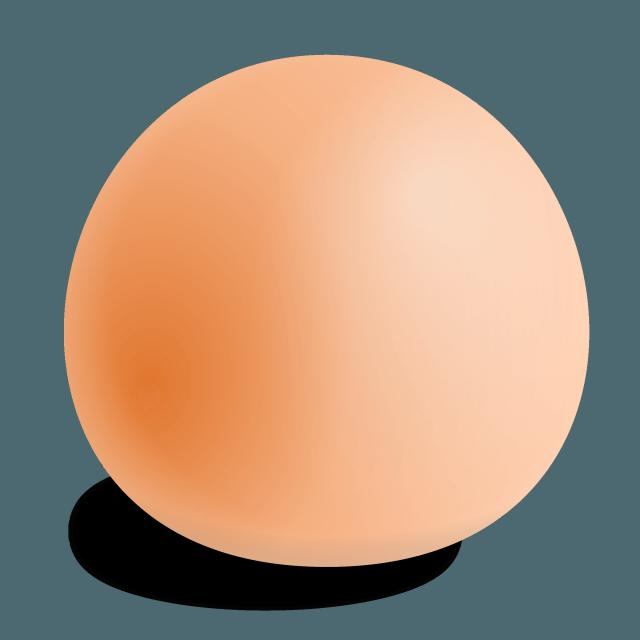egg: (57, 45, 596, 577)
